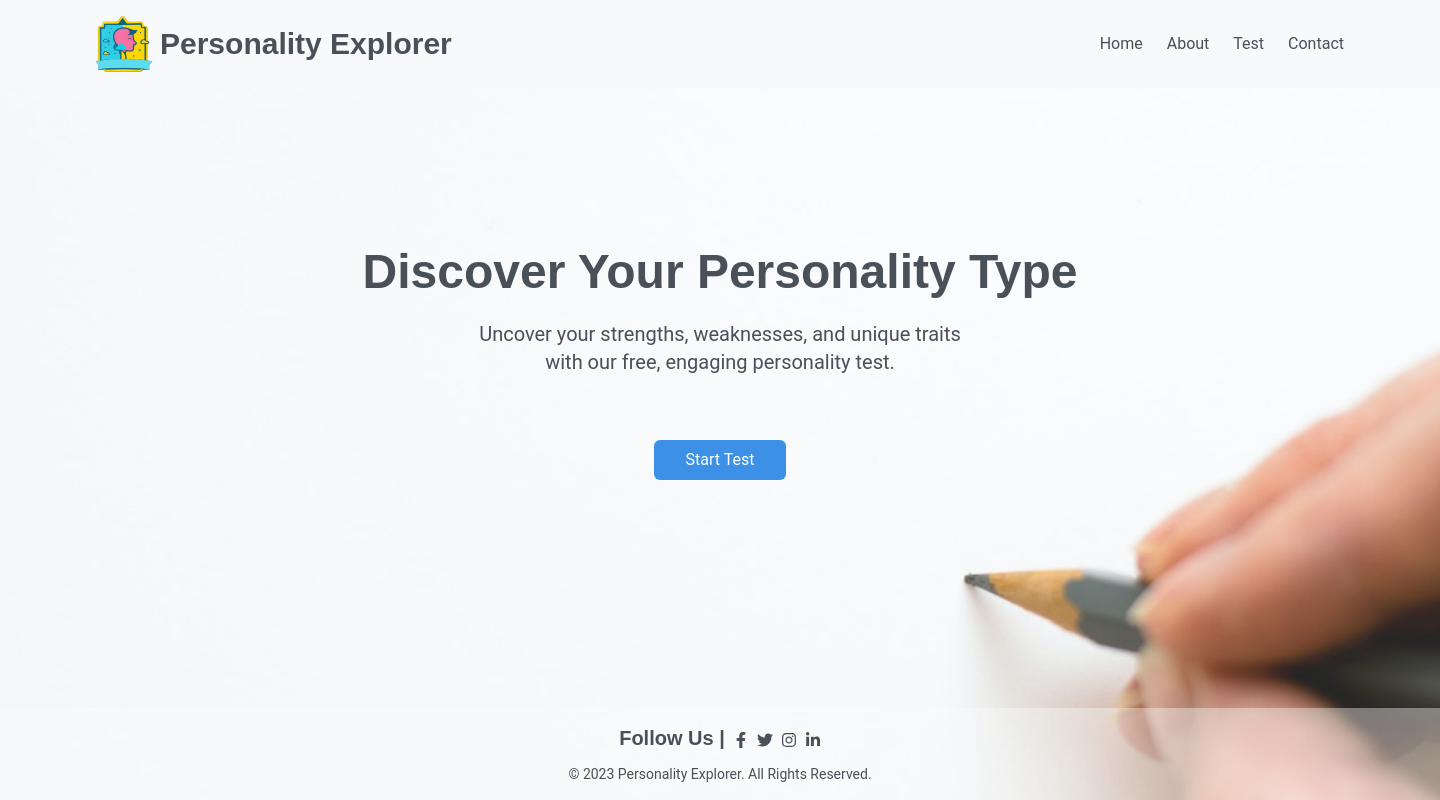
Test: Navbar › restart the test when home button is clicked
The image size is (1440, 800).
Click the link "Test": point(1249, 44) [1233, 34, 1264, 53]
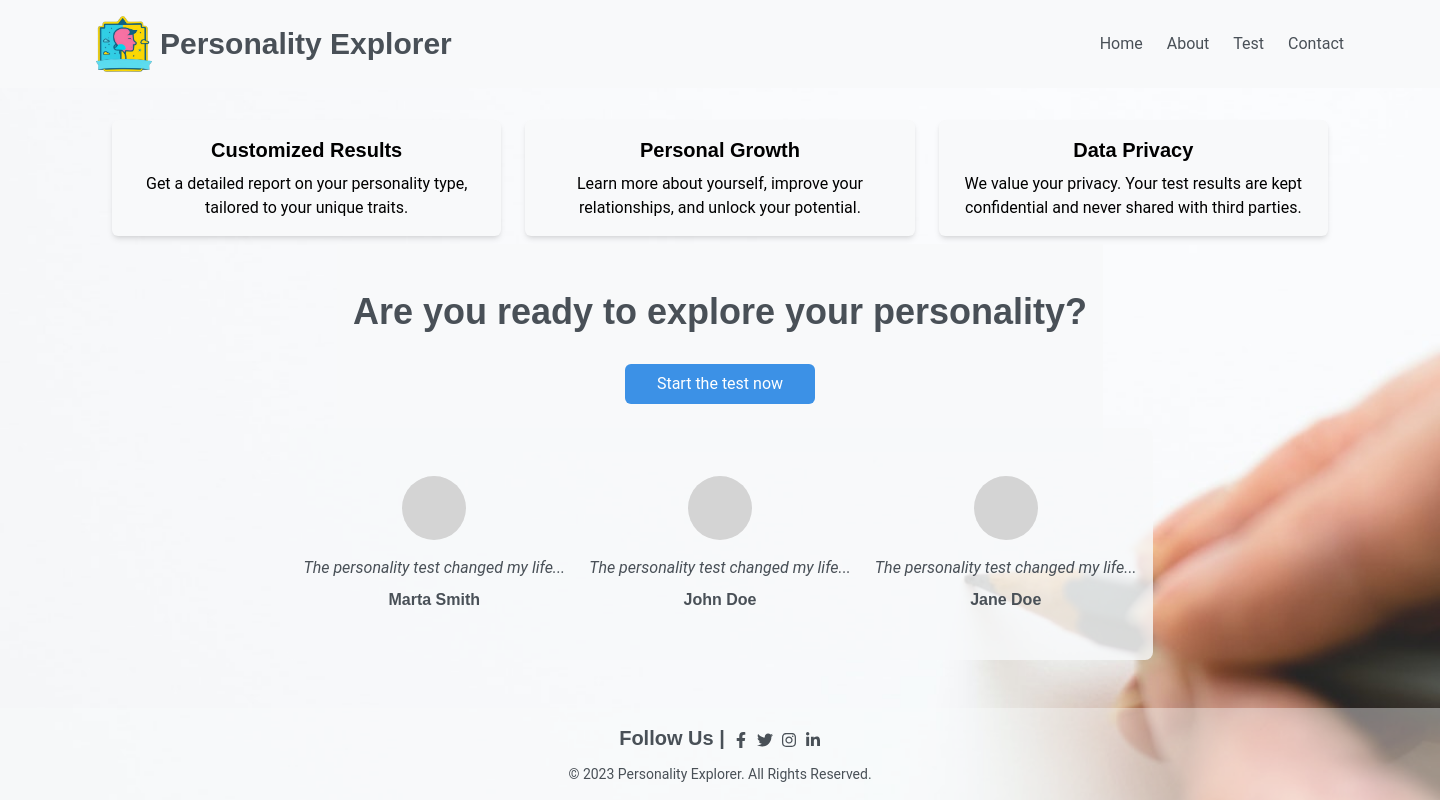
Click the button "Start the test now": point(720, 384) [625, 364, 815, 404]
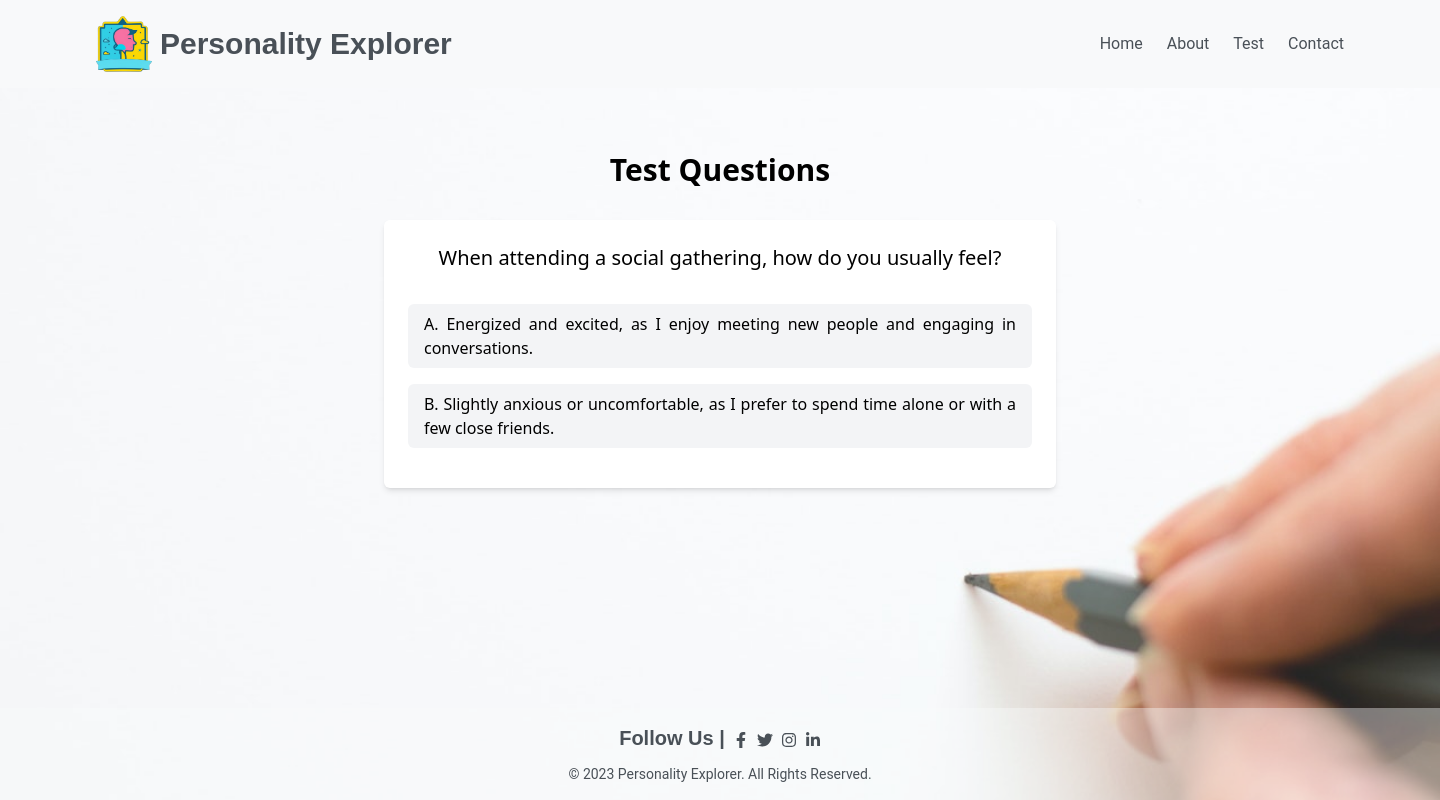
Click the link "Home": point(1122, 44) [1100, 34, 1143, 53]
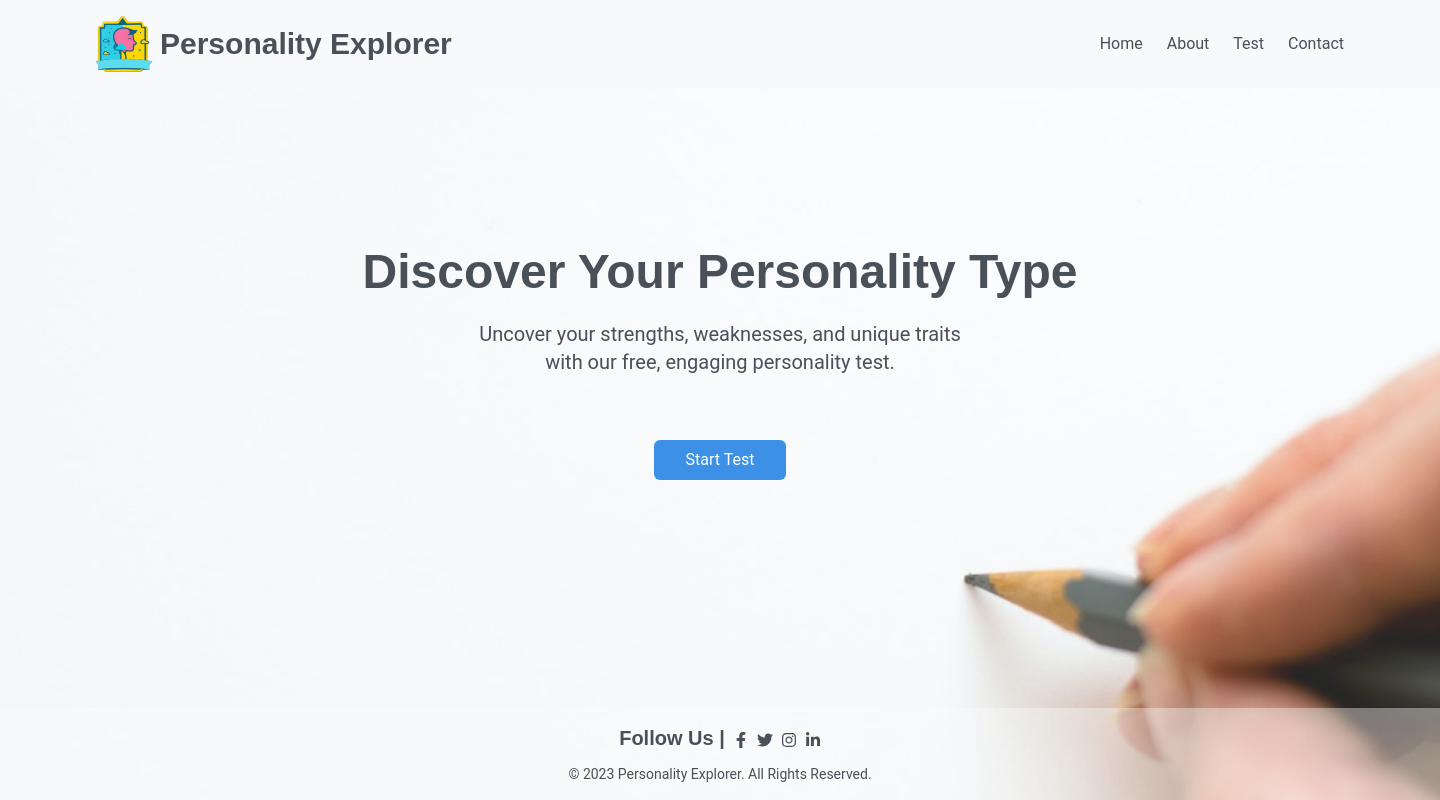
Expected: the heading "Discover Your Personality Type" is shown, [362, 248, 1077, 296]
Expected: the button "Start Test" is shown, [654, 440, 786, 480]
